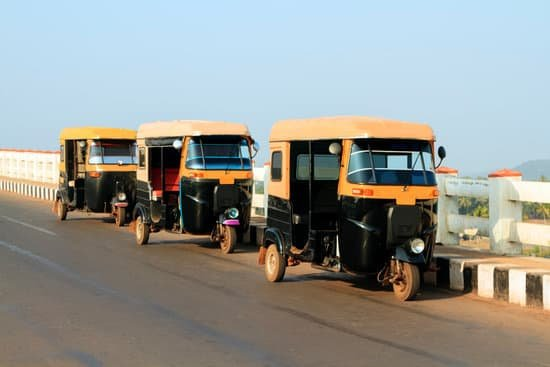threewheel: (258, 115, 445, 302), (132, 119, 257, 253), (52, 127, 139, 227)
